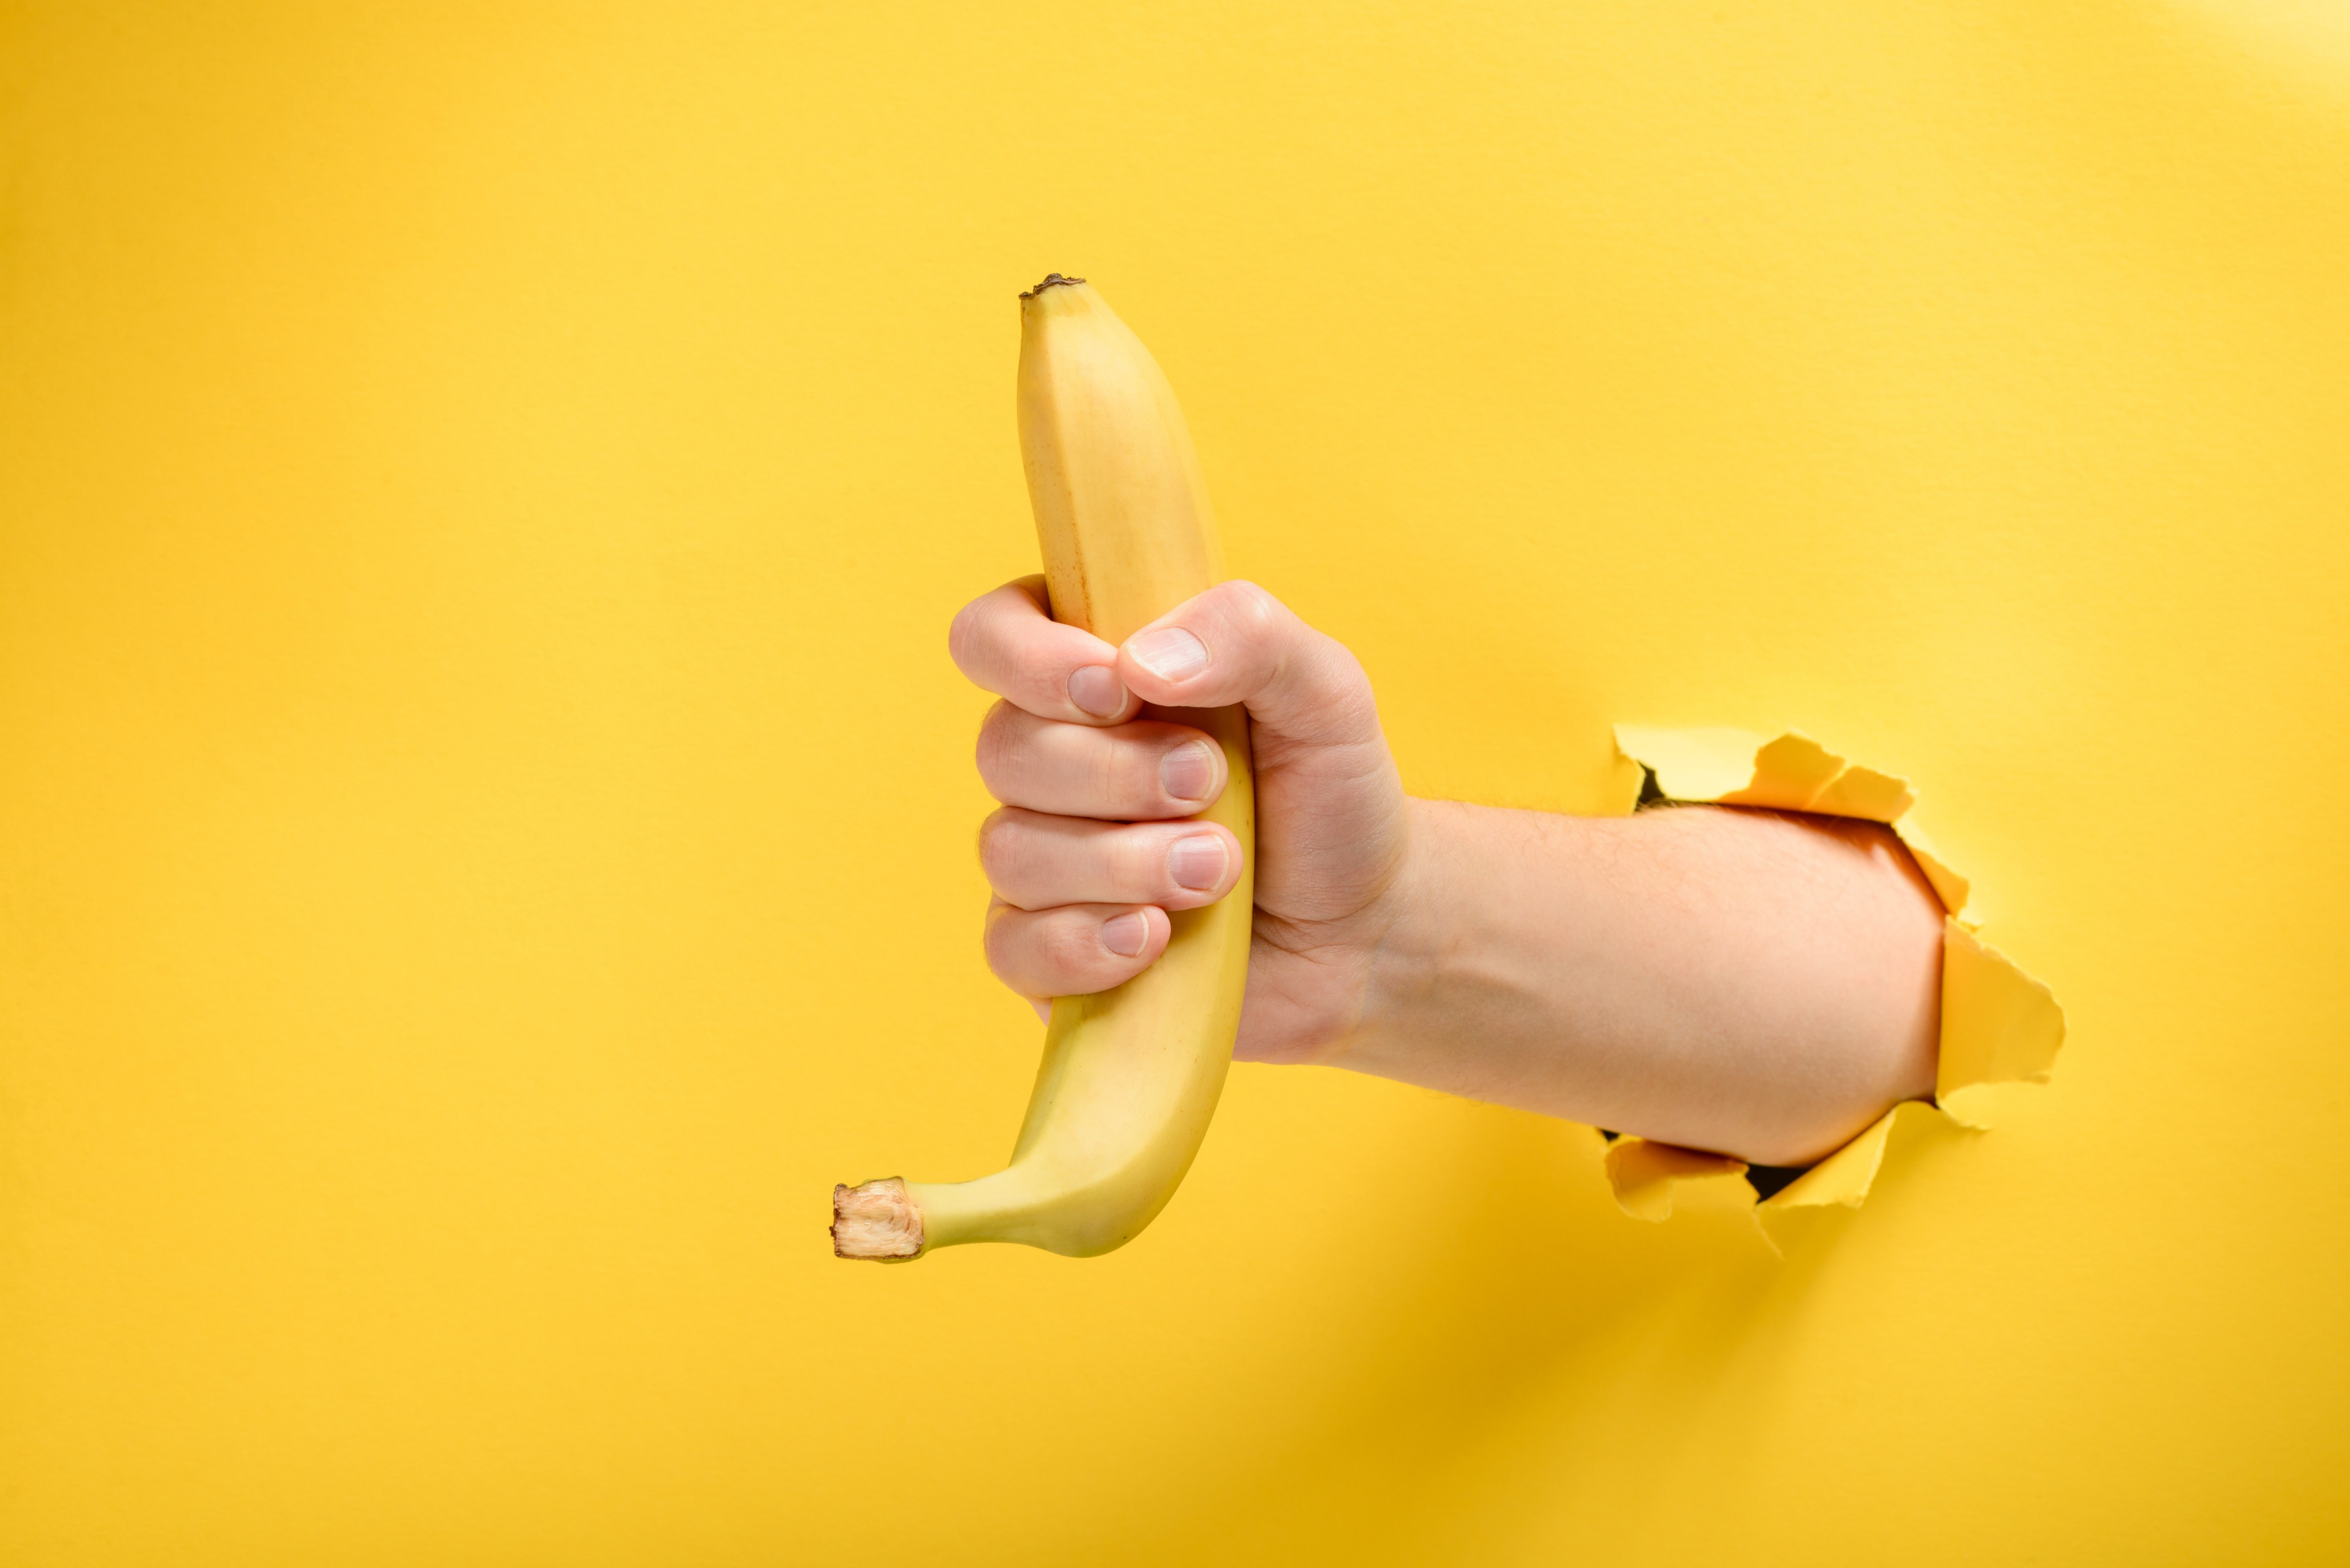banana: (822, 259, 1267, 1274)
